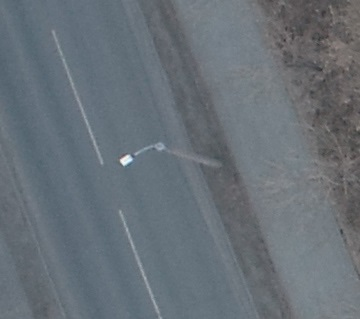opora: (118, 141, 225, 170)
